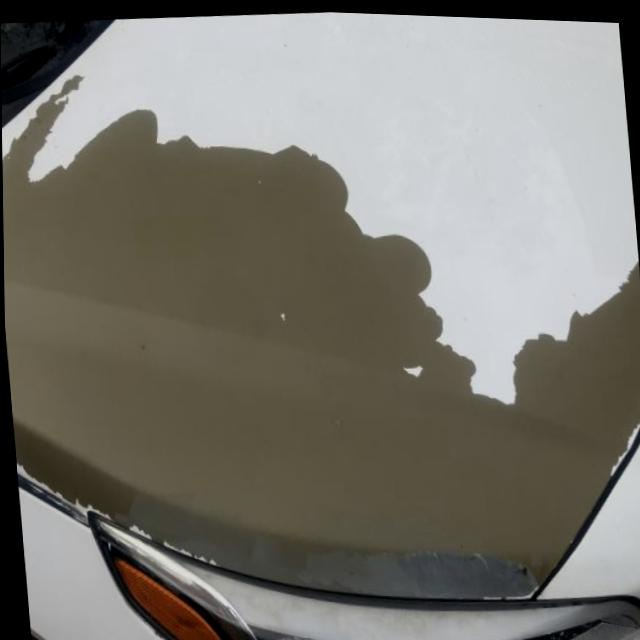Paint-fading: (2, 51, 640, 619)
